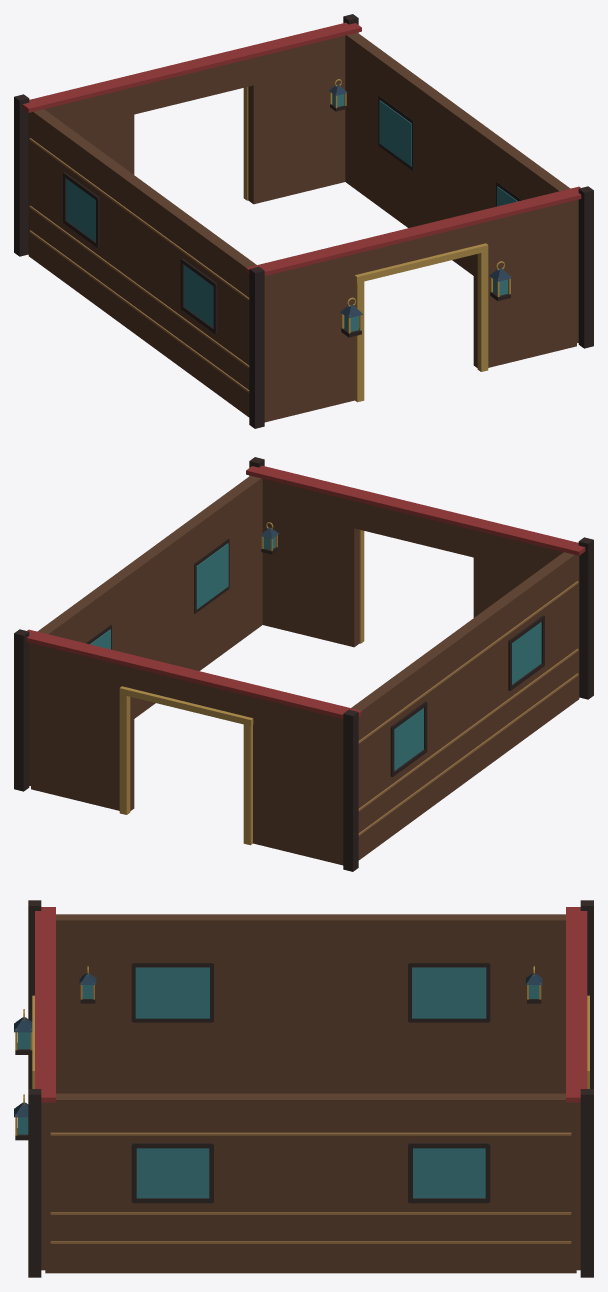
Rendered from PirateCove_CaptainsCabin_Showcase.glb.
3 views of the same model, one above another, from view 1: azimuth 30°, elevation 25°; view 2: azimuth 150°, elevation 25°; view 3: azimuth 270°, elevation 25° (orthographic). The views are drawn at different scales.
Parts seen in each view (by area): view 1: PirateCove_CaptainsCabin_Showcase; view 2: PirateCove_CaptainsCabin_Showcase; view 3: PirateCove_CaptainsCabin_Showcase.
Part boxes in pixels (box(x1,y1,x2,y2)): PirateCove_CaptainsCabin_Showcase: box(14, 14, 593, 428); PirateCove_CaptainsCabin_Showcase: box(14, 457, 593, 871); PirateCove_CaptainsCabin_Showcase: box(14, 900, 593, 1277).
Bounding box in the file's own units: 8.65 × 3.8 × 10.92.
